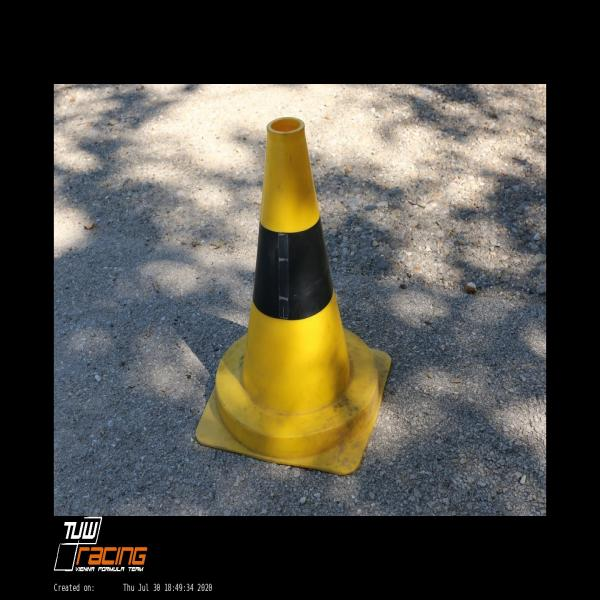yellow_cone: (196, 116, 392, 474)
